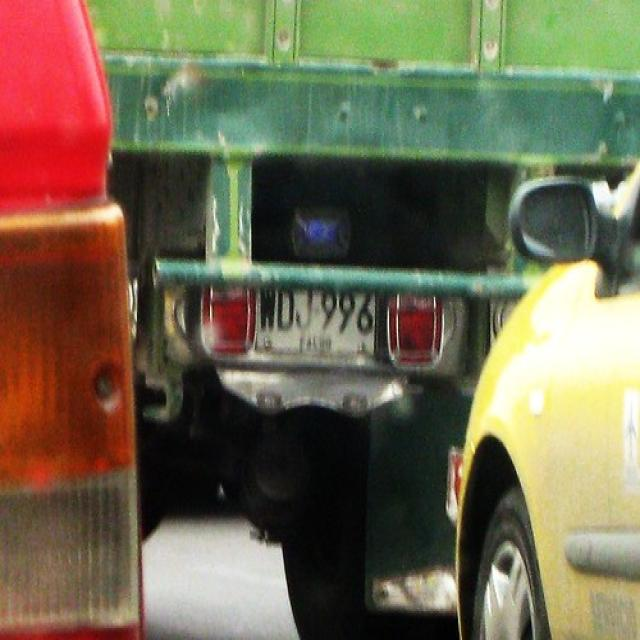placas: (255, 288, 375, 335)
